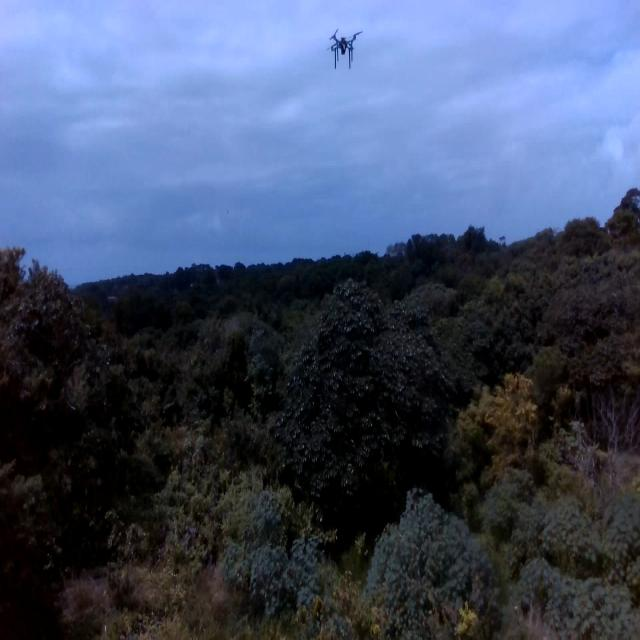-uav-: (322, 24, 367, 74)
